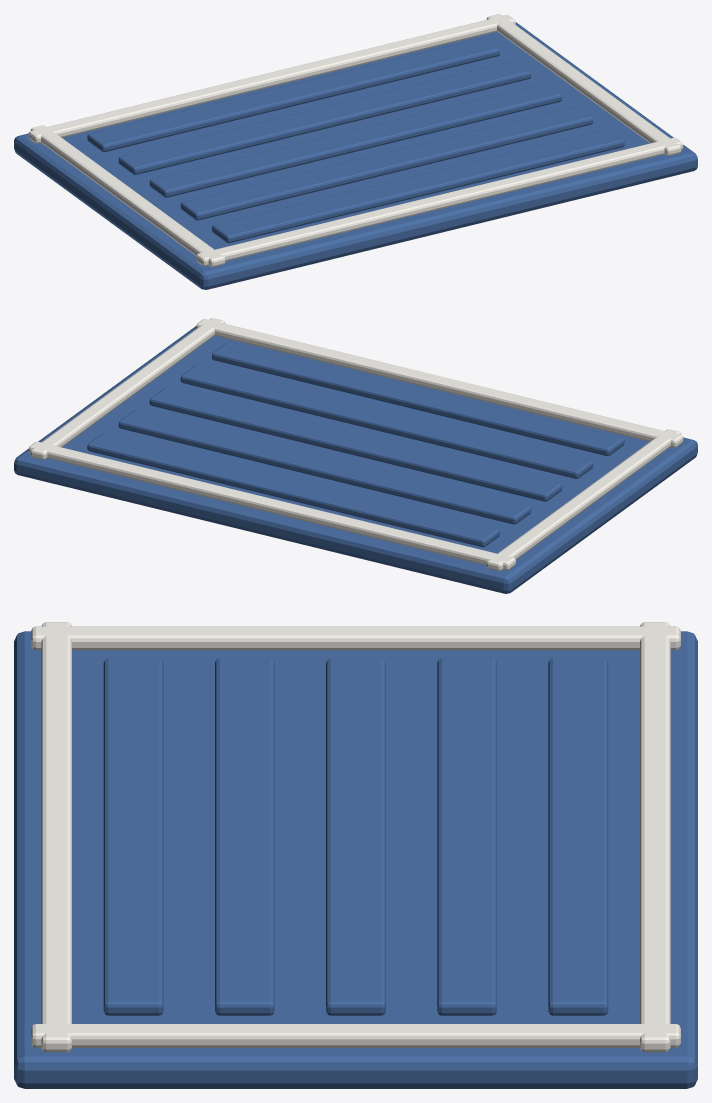
File: hh_cat_bath_mat.glb
3 renders of one model, top to bottom at view 1: azimuth 30°, elevation 25°; view 2: azimuth 150°, elevation 25°; view 3: azimuth 270°, elevation 25°, orthographic. The views are drawn at different scales.
Parts seen in each view (by area): view 1: mat, mat_ridge.002, mat_ridge.001, mat_ridge.003, mat_ridge, mat_ridge.004, trim, trim.001, trim.003, trim.002; view 2: mat, mat_ridge.002, mat_ridge.003, mat_ridge.001, mat_ridge, mat_ridge.004, trim.001, trim, trim.002, trim.003; view 3: mat, mat_ridge, mat_ridge.004, mat_ridge.001, mat_ridge.002, mat_ridge.003, trim.002, trim.003, trim, trim.001.
Part boxes in pixels (x1=…): mat: x1=14, y1=22, x2=697, y2=289; mat_ridge.002: x1=149, y1=83, x2=562, y2=197; mat_ridge.001: x1=180, y1=106, x2=593, y2=220; mat_ridge.003: x1=118, y1=61, x2=531, y2=174; mat_ridge: x1=212, y1=129, x2=624, y2=243; mat_ridge.004: x1=87, y1=38, x2=499, y2=152; trim: x1=196, y1=137, x2=683, y2=266; trim.001: x1=28, y1=15, x2=515, y2=143; trim.003: x1=486, y1=14, x2=681, y2=155; trim.002: x1=30, y1=125, x2=225, y2=267; mat: x1=14, y1=326, x2=697, y2=593; mat_ridge.002: x1=149, y1=387, x2=562, y2=501; mat_ridge.003: x1=118, y1=410, x2=531, y2=524; mat_ridge.001: x1=180, y1=365, x2=593, y2=478; mat_ridge: x1=212, y1=342, x2=624, y2=456; mat_ridge.004: x1=87, y1=433, x2=499, y2=547; trim.001: x1=28, y1=441, x2=515, y2=570; trim: x1=196, y1=319, x2=683, y2=447; trim.002: x1=486, y1=429, x2=681, y2=571; trim.003: x1=30, y1=318, x2=225, y2=459; mat: x1=14, y1=631, x2=697, y2=1088; mat_ridge: x1=103, y1=658, x2=163, y2=1015; mat_ridge.004: x1=548, y1=658, x2=608, y2=1015; mat_ridge.001: x1=215, y1=658, x2=274, y2=1015; mat_ridge.002: x1=326, y1=658, x2=385, y2=1015; mat_ridge.003: x1=437, y1=658, x2=496, y2=1015; trim.002: x1=31, y1=626, x2=680, y2=650; trim.003: x1=31, y1=1024, x2=680, y2=1047; trim: x1=41, y1=622, x2=71, y2=1052; trim.001: x1=640, y1=622, x2=670, y2=1052.
Bounding box in the file's own units: 0.6 × 0.03 × 0.4.
